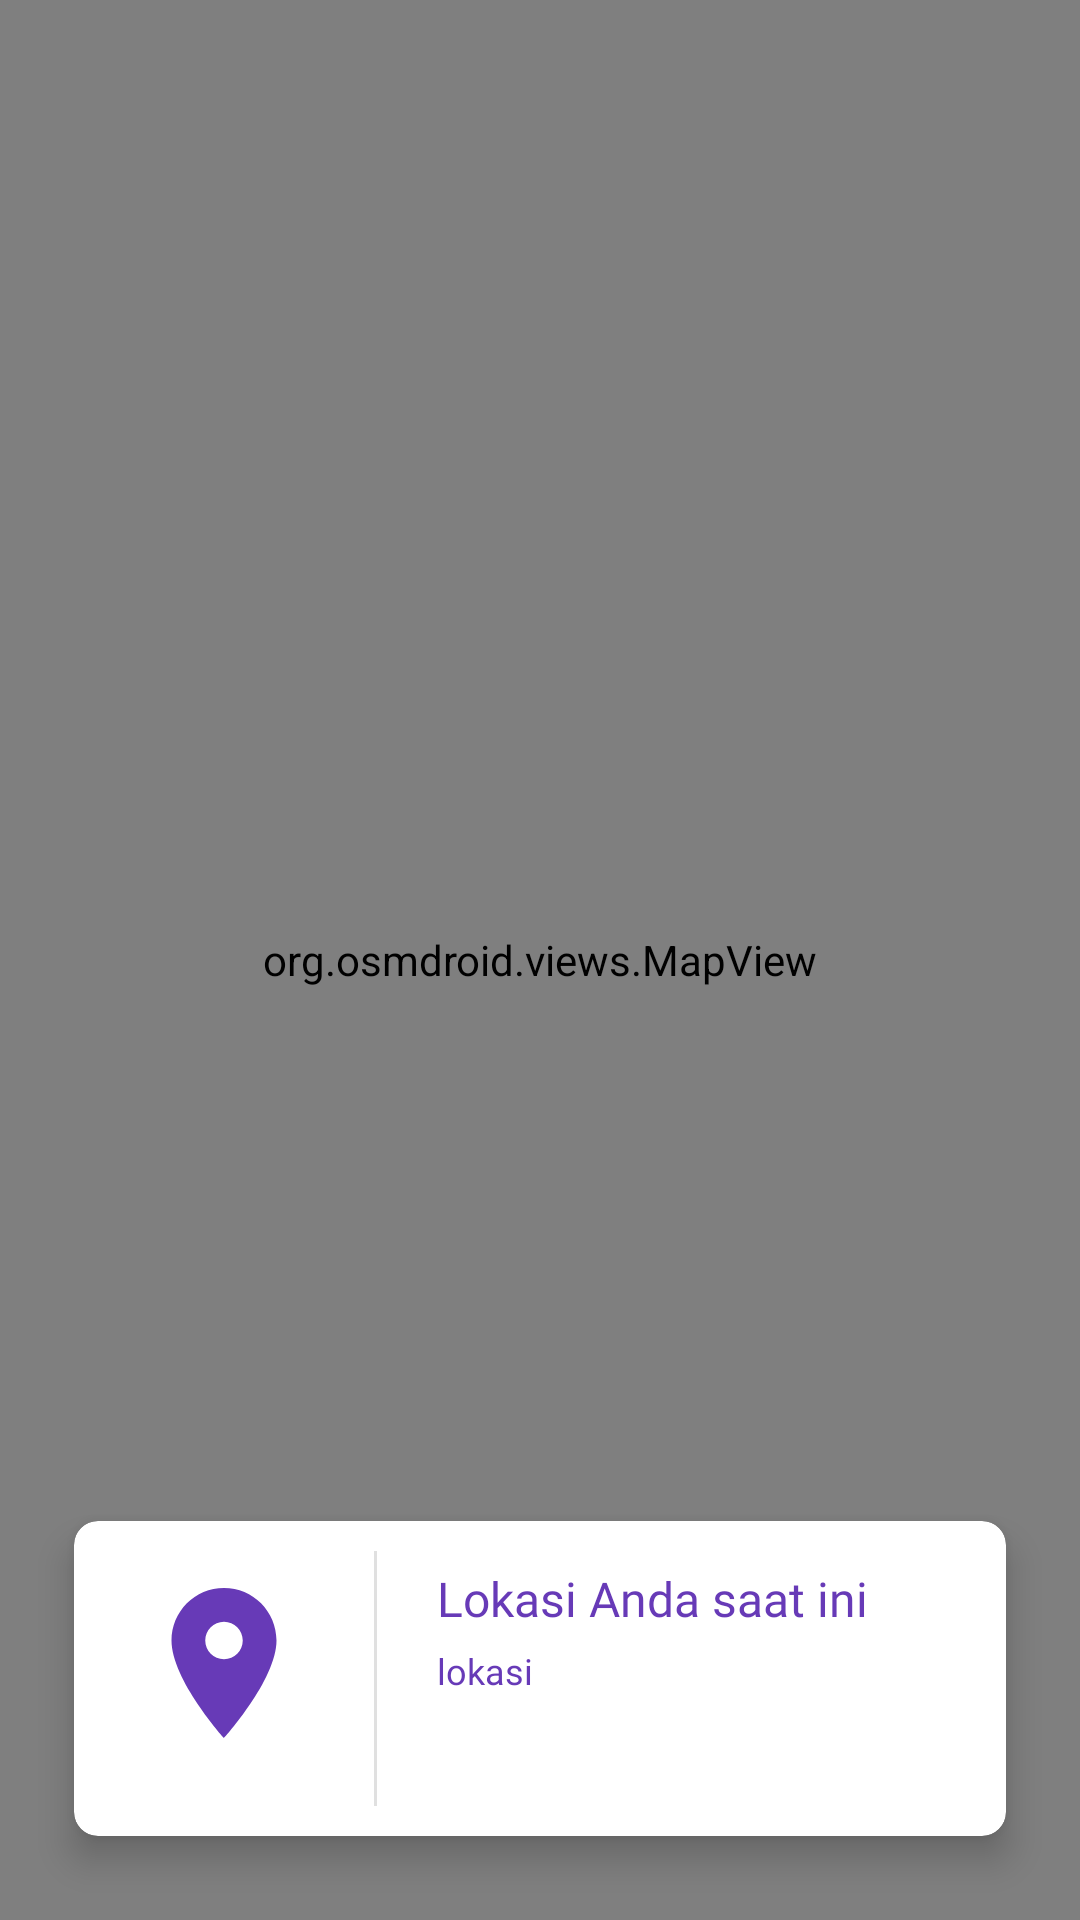

Icons on this 1080 x 1920 Android screen, each with the point to tap as point (x, y):
map: point (224, 1663)
